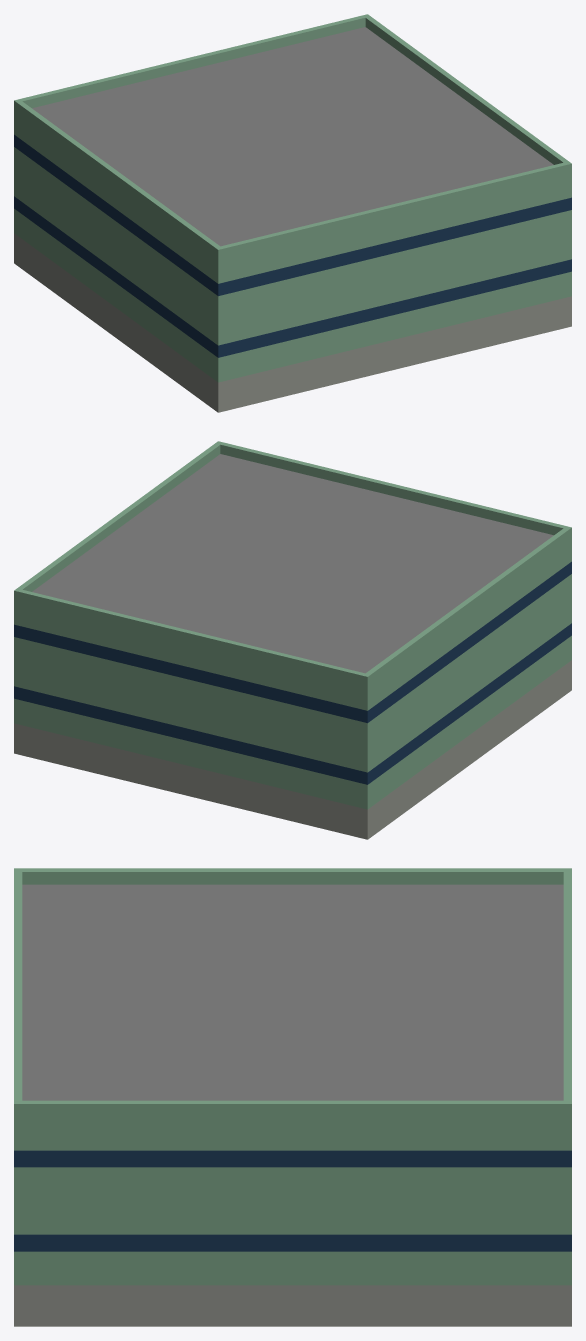
Rendered from far.fbx.
3 renders of one model, top to bottom at view 1: azimuth 30°, elevation 25°; view 2: azimuth 150°, elevation 25°; view 3: azimuth 270°, elevation 25°, orthographic. The views are drawn at different scales.
Visible parts, largest first — view 1: a2013/500/far; view 2: a2013/500/far; view 3: a2013/500/far.
Part boxes in pixels (<box>): a2013/500/far: <box>14,14,571,412</box>; a2013/500/far: <box>14,441,571,839</box>; a2013/500/far: <box>14,868,571,1326</box>.
Bounding box in the file's own units: 20 × 8.8 × 20.
